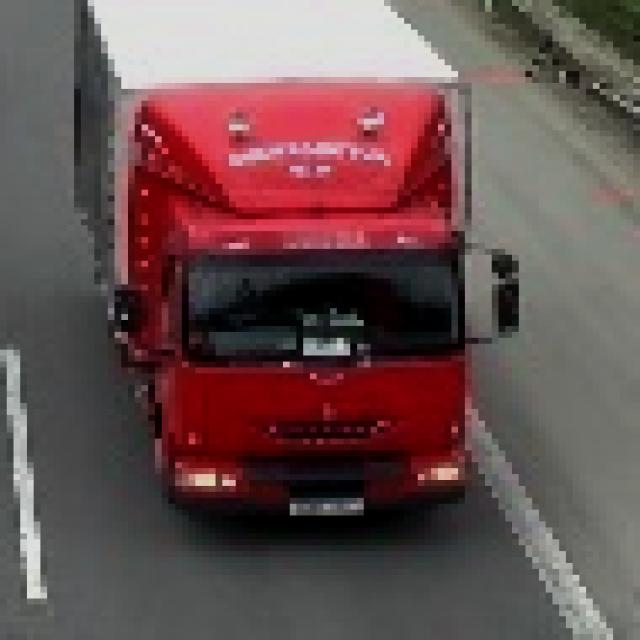truck: (68, 1, 512, 522)
